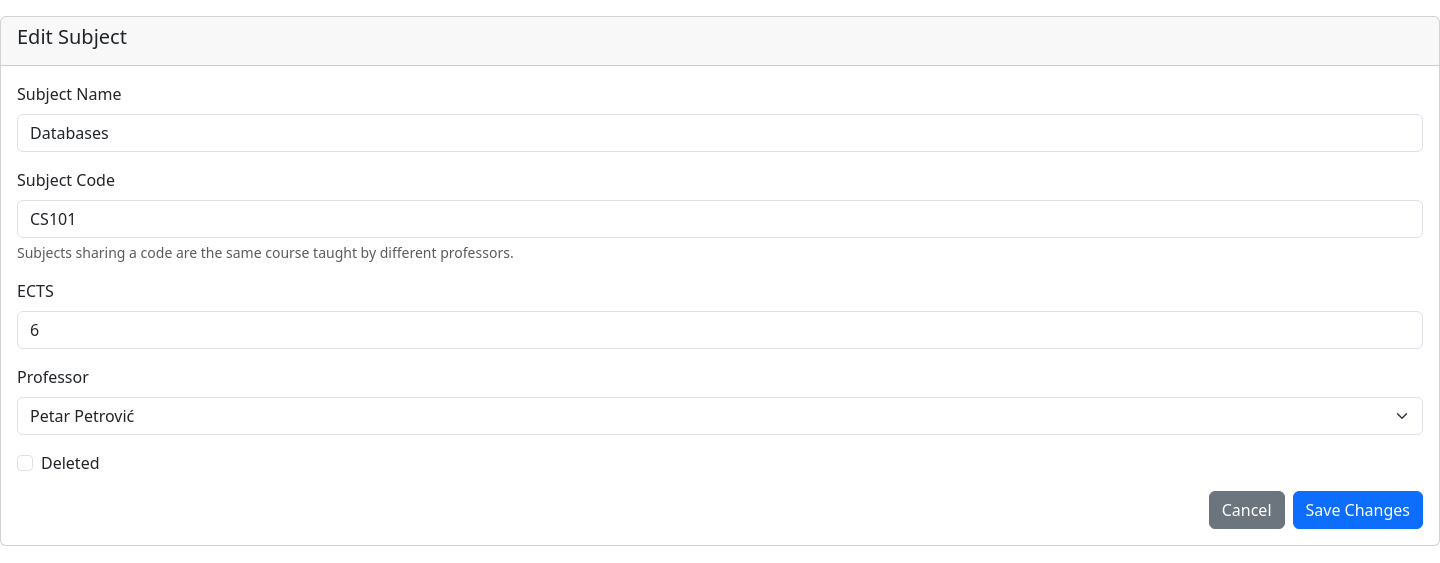
Scenario: SubjectEditForm — SubjectCode field (UI §8.4) › disables Save Changes once a required field is cleared
This screenshot has width=1440, height=563.
Check: the button "Save Changes" is enabled, box [1292,491,1423,529]
Click the field labelled "Subject Code" at (720, 219), box [17,200,1423,238]
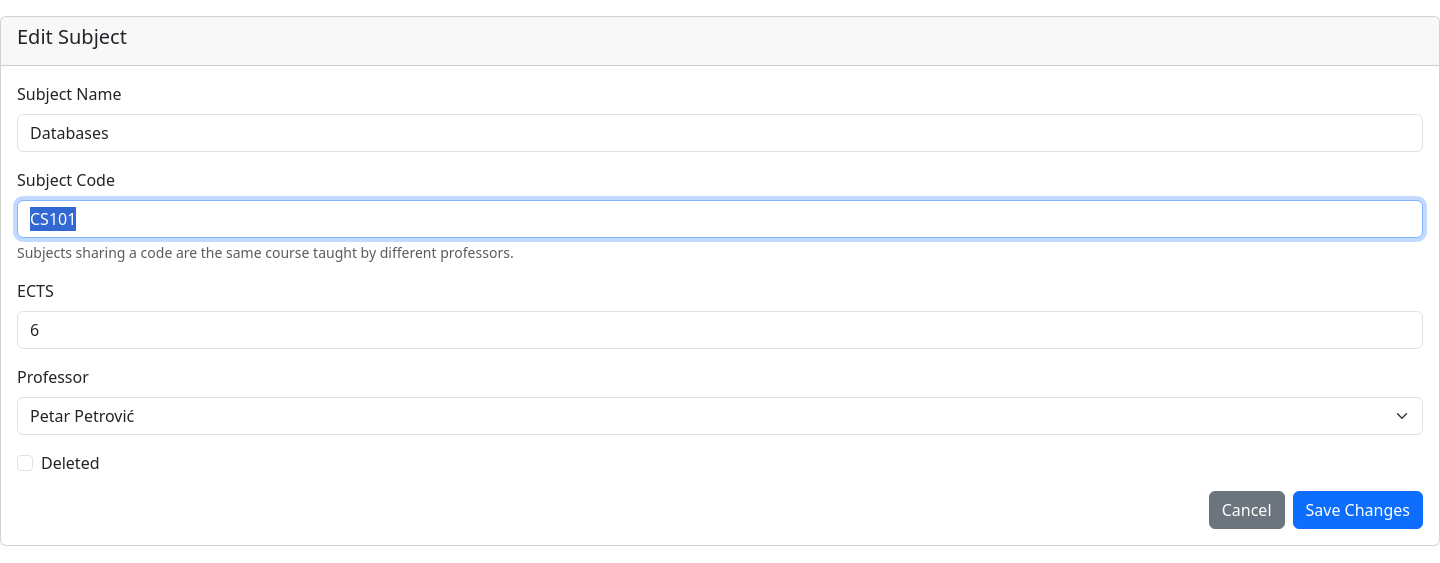
Press Delete
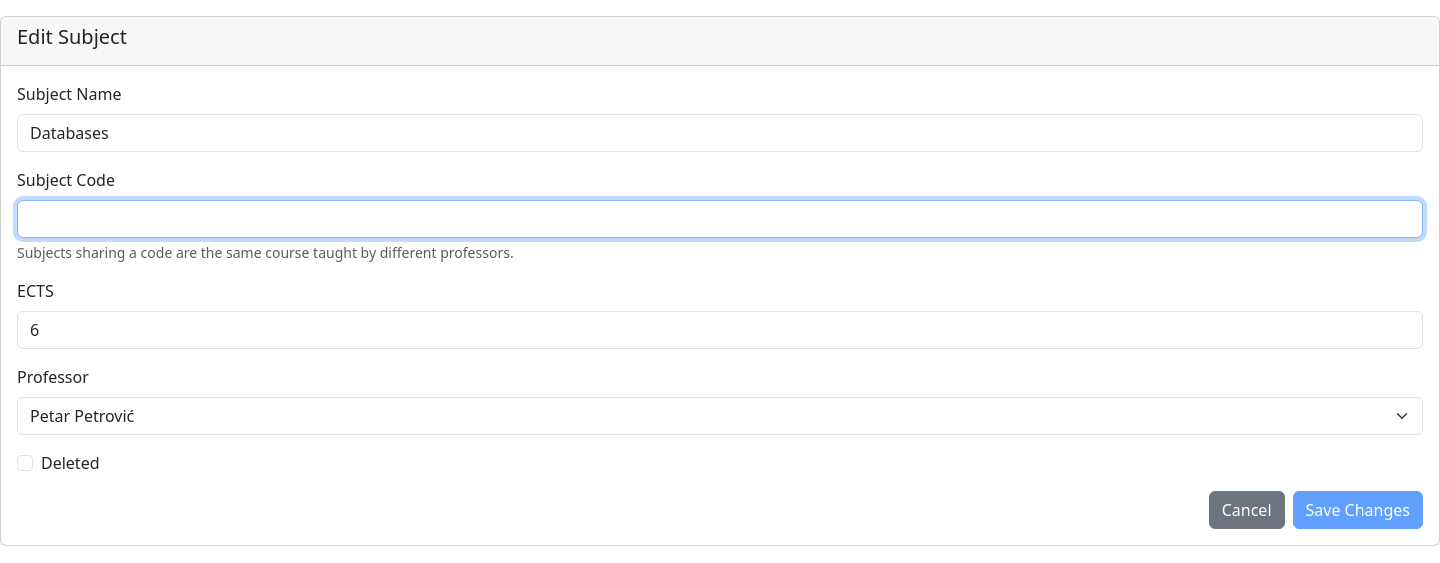
Check: the button "Save Changes" is disabled, box [1292,491,1423,529]
